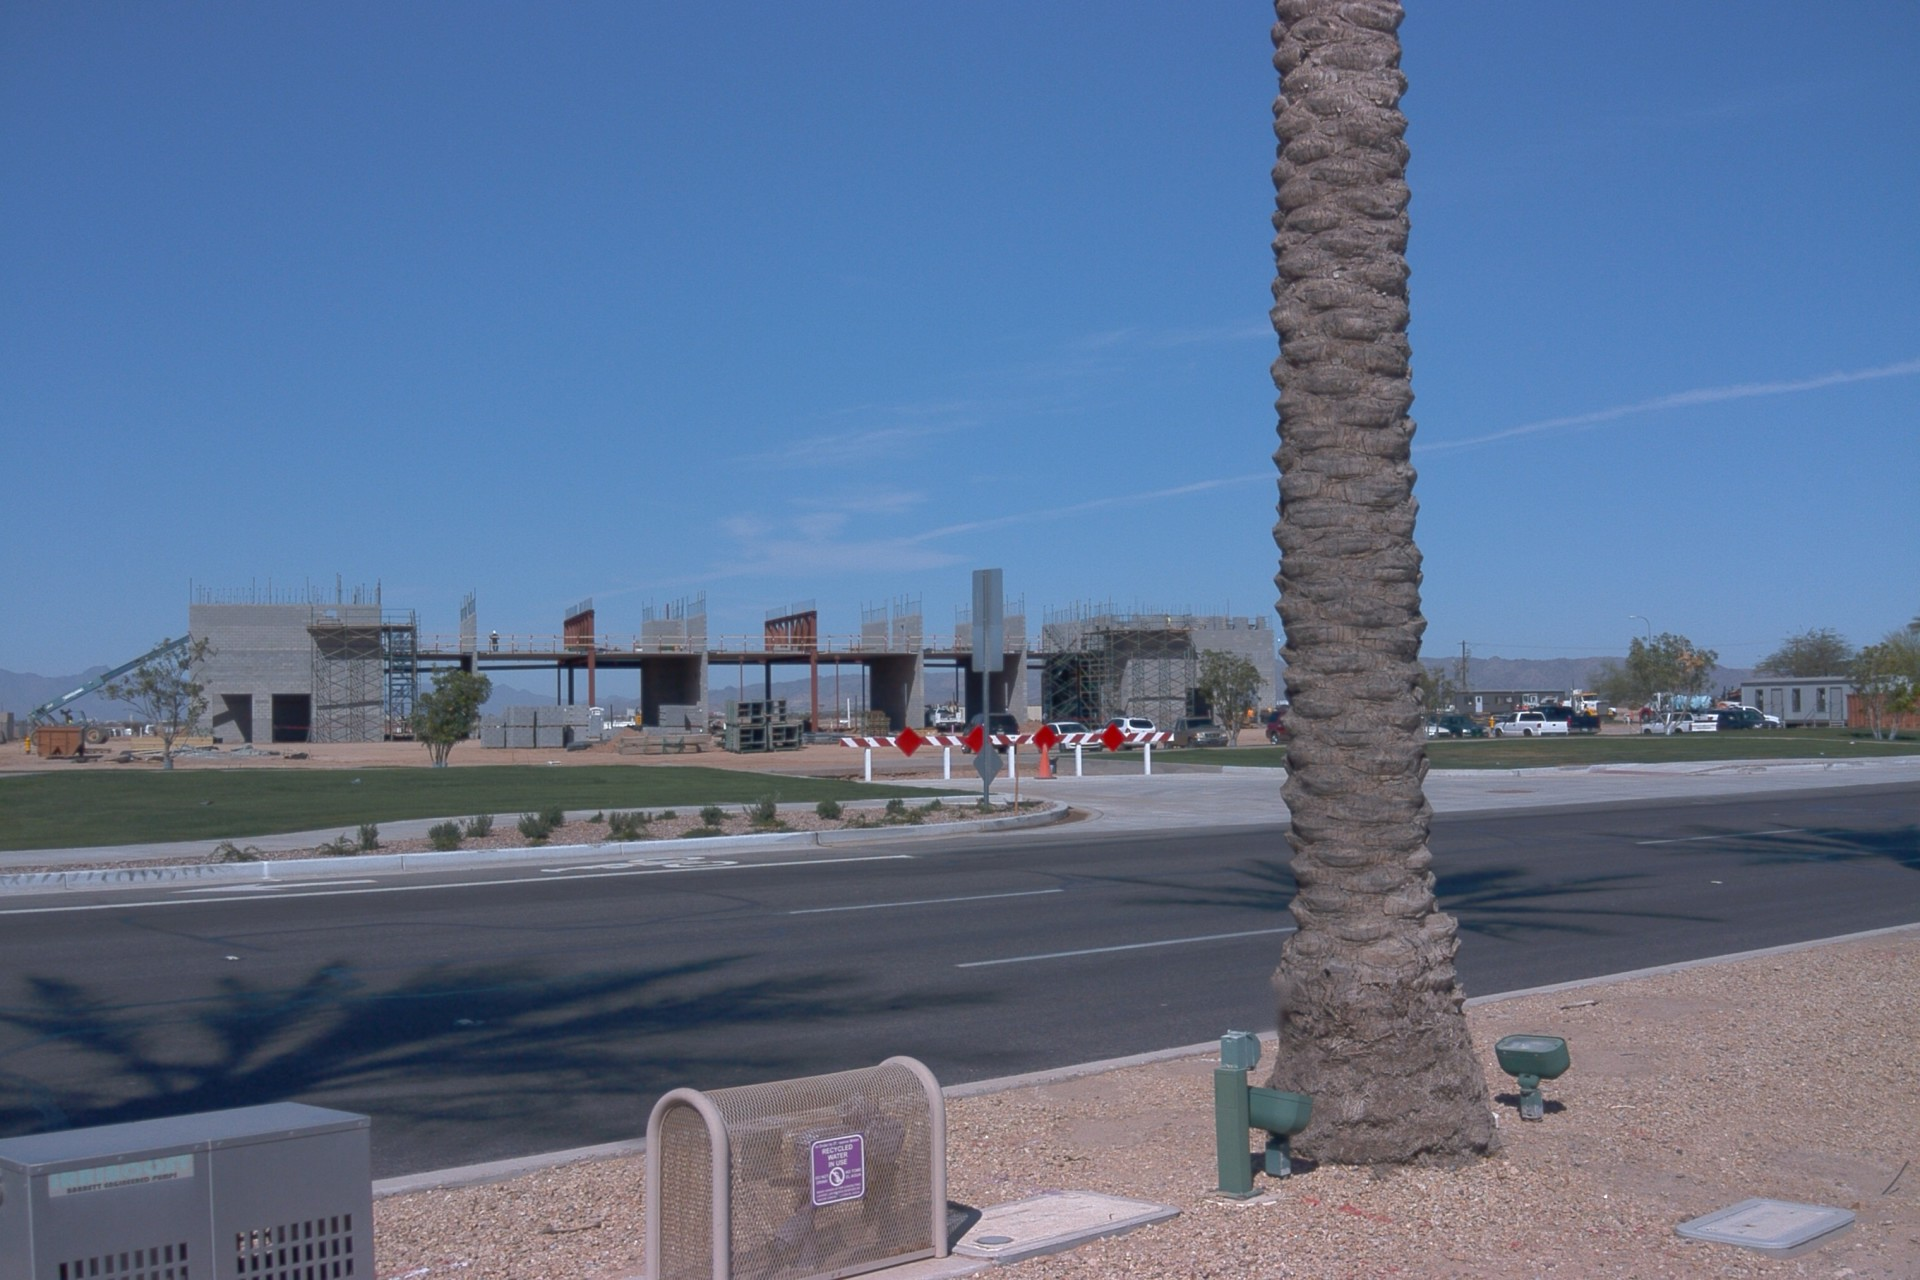TYPE_PEDESTRIAN: (1521, 703, 1531, 712), (1513, 703, 1521, 712)
TYPE_VEHICLE: (25, 637, 192, 750), (1516, 685, 1619, 725), (1691, 702, 1782, 733), (1093, 714, 1161, 755), (964, 712, 1024, 757), (1037, 717, 1104, 757), (1637, 692, 1713, 725), (1534, 706, 1601, 739), (1174, 710, 1230, 749), (1492, 713, 1569, 737), (1695, 712, 1778, 733), (1643, 714, 1722, 736), (1263, 705, 1297, 748), (924, 700, 967, 732), (1430, 717, 1491, 739), (1257, 705, 1288, 724), (1427, 724, 1449, 745), (628, 705, 644, 727)
